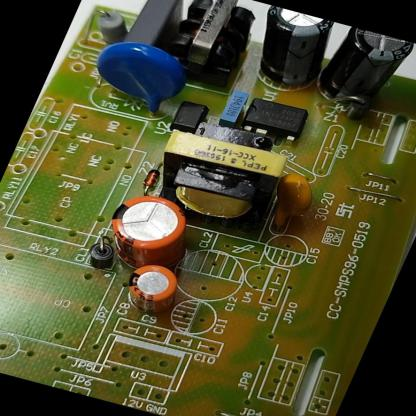Cap1: (90, 184, 203, 276)
Cap2: (115, 257, 188, 322)
Cap3: (234, 4, 343, 99)
Cap4: (306, 24, 413, 118)
MOSFET: (235, 92, 313, 144)
Mov: (77, 32, 196, 119)
Resistor: (78, 4, 134, 46)
Transformer: (132, 107, 302, 240), (149, 0, 267, 92)
